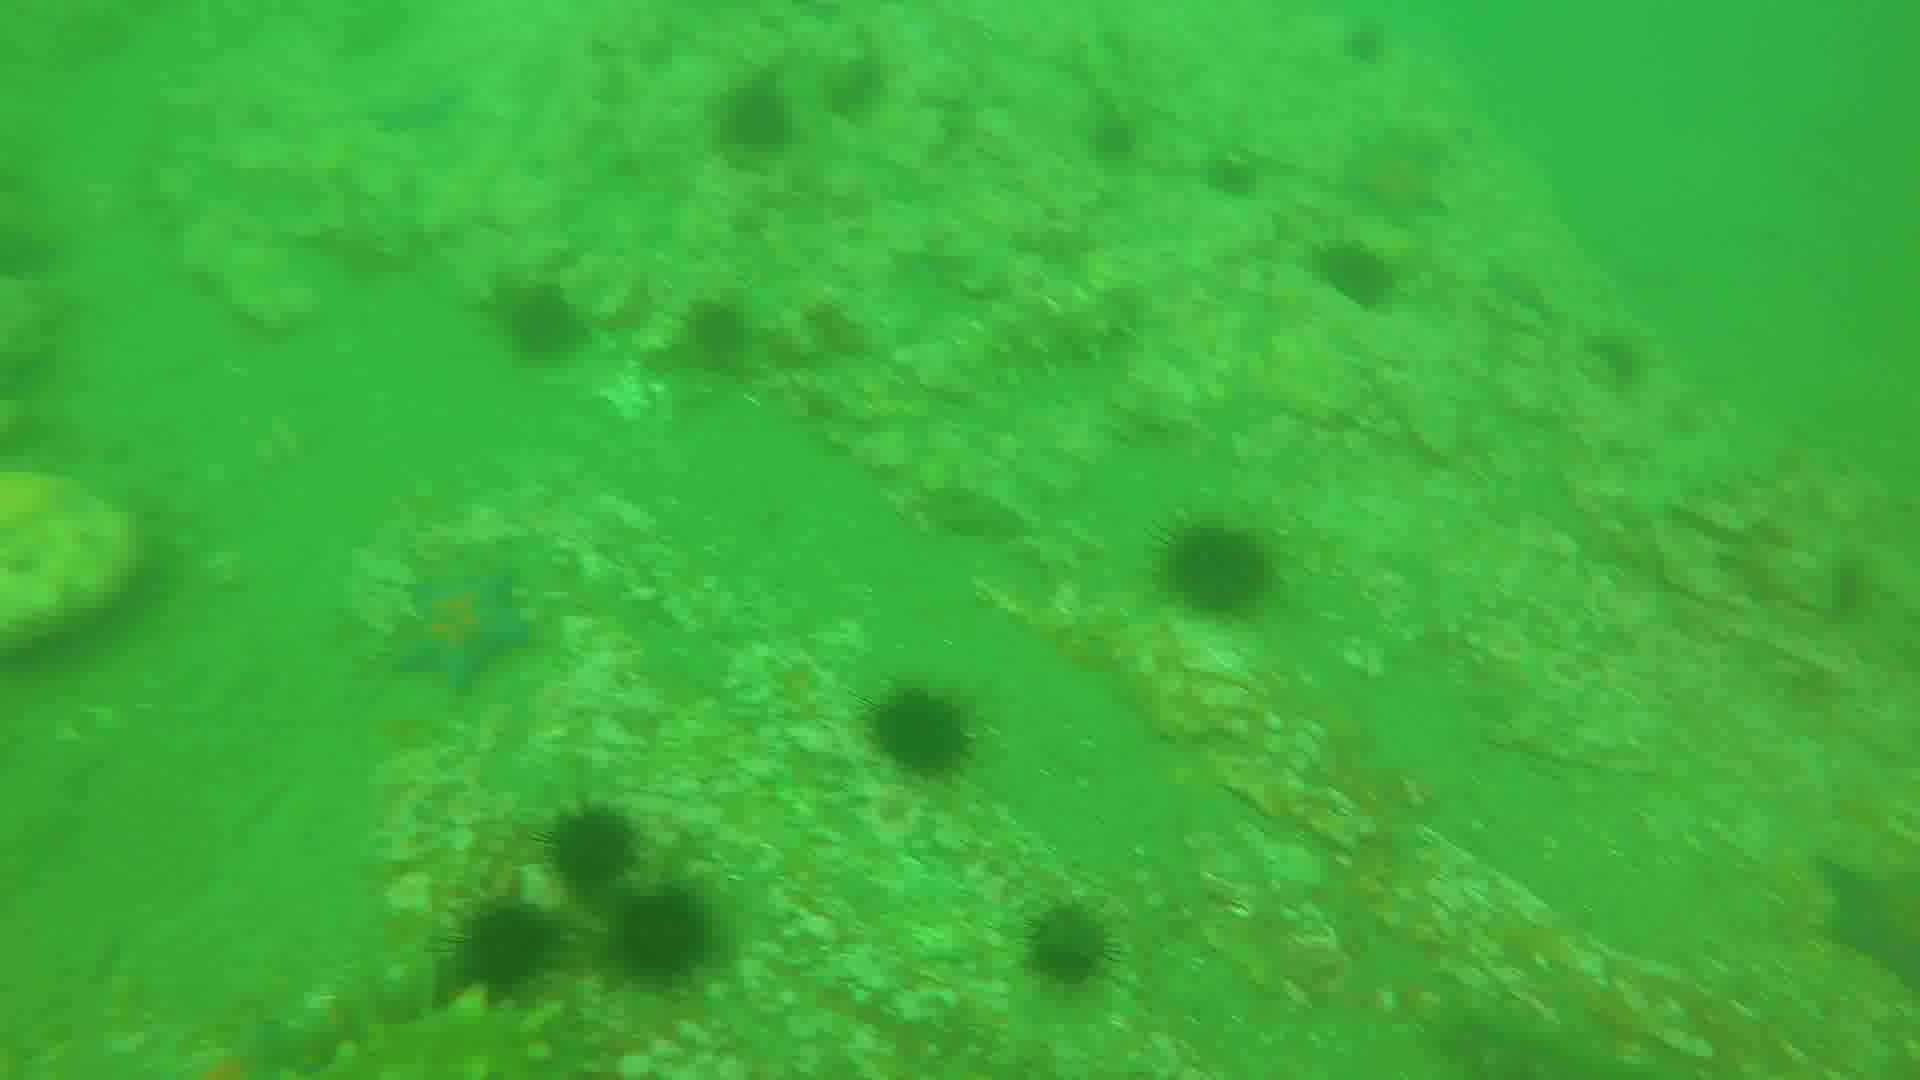echinus: (615, 885, 717, 986), (1164, 521, 1265, 620), (872, 694, 973, 785), (1019, 905, 1113, 998), (458, 906, 564, 988), (493, 274, 584, 369), (549, 812, 641, 902), (1311, 239, 1396, 309), (733, 92, 796, 165), (1203, 142, 1269, 196), (692, 305, 752, 347)
holothurian: (280, 1005, 576, 1080), (982, 281, 1153, 375), (1456, 1006, 1650, 1080)
starfish: (1816, 847, 1920, 996), (396, 571, 534, 680), (1337, 135, 1451, 215), (365, 78, 477, 138)
